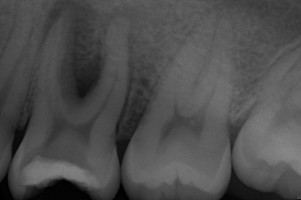Dental Caries: (44, 0, 104, 96)
Furcation Involvement: (105, 3, 146, 53)
